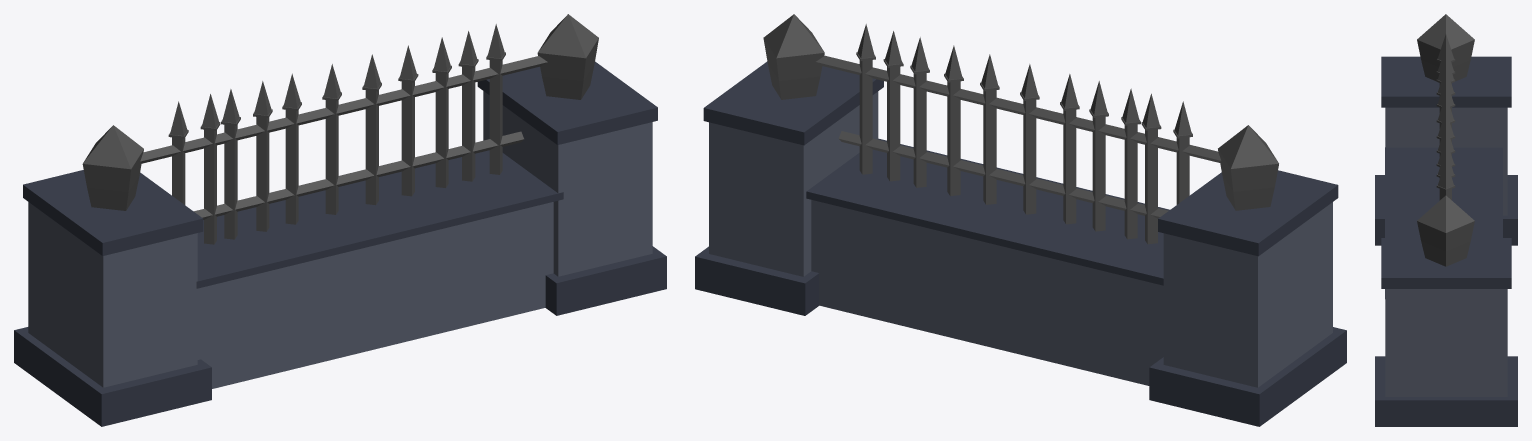
Rendered from Mesh_graveyard_fence.fbx.
The picture shows the model from 3 angles, left to right: view 1: azimuth 30°, elevation 25°; view 2: azimuth 150°, elevation 25°; view 3: azimuth 270°, elevation 25°; orthographic projection. The views are drawn at different scales.
Visible parts, largest first — view 1: graveyard_fence; view 2: graveyard_fence; view 3: graveyard_fence.
Boxes of the visible parts, x1,y1,x2,y2 form: graveyard_fence: (14, 14, 666, 426); graveyard_fence: (695, 14, 1346, 426); graveyard_fence: (1375, 14, 1517, 426).
Bounding box in the file's own units: 341 × 153 × 91.55.
1 material, 1 textured.
